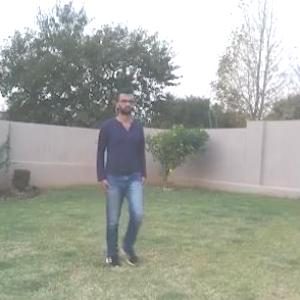follow: (98, 92, 146, 254)
